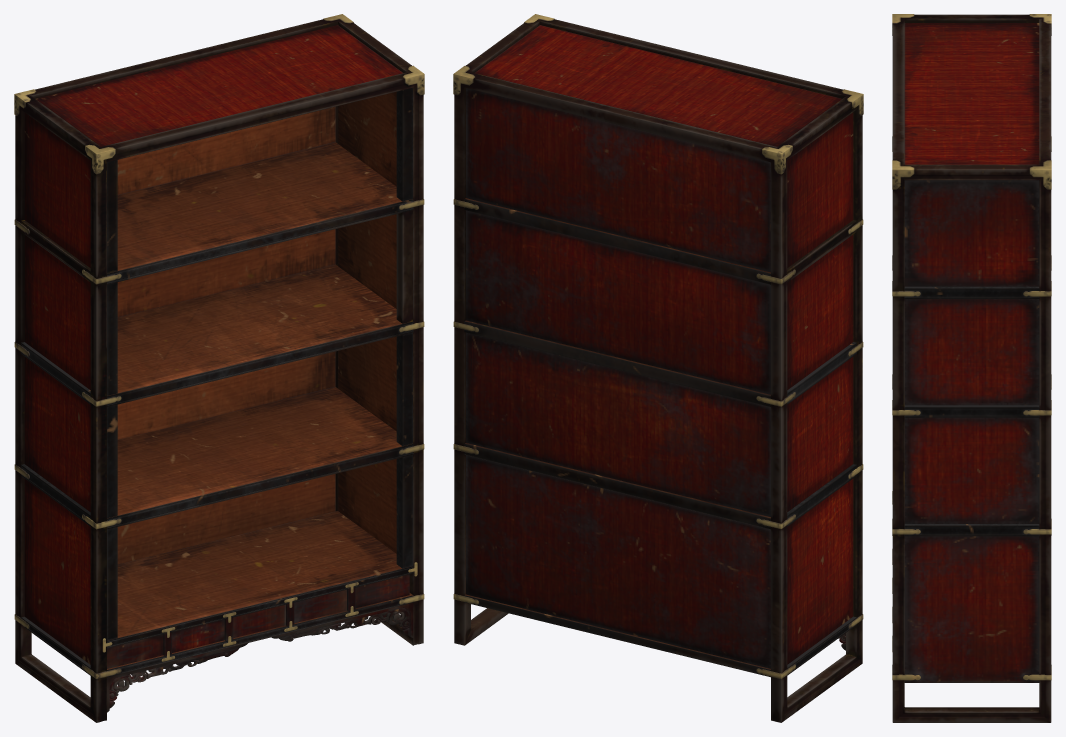
Rendered from SM_BookCabinet224_body.fbx.
3 renders of one model, left to right at view 1: azimuth 30°, elevation 25°; view 2: azimuth 150°, elevation 25°; view 3: azimuth 270°, elevation 25°, orthographic. The views are drawn at different scales.
Parts seen in each view (by area): view 1: SM_BookCabinet224_body; view 2: SM_BookCabinet224_body; view 3: SM_BookCabinet224_body.
Boxes of the visible parts, bbox=[...] form: SM_BookCabinet224_body: bbox=[14, 14, 424, 722]; SM_BookCabinet224_body: bbox=[453, 14, 863, 722]; SM_BookCabinet224_body: bbox=[892, 14, 1051, 722].
Size of the model in its own units: 129 by 214 by 55.97.
Materials: 1 (1 with a texture image).
